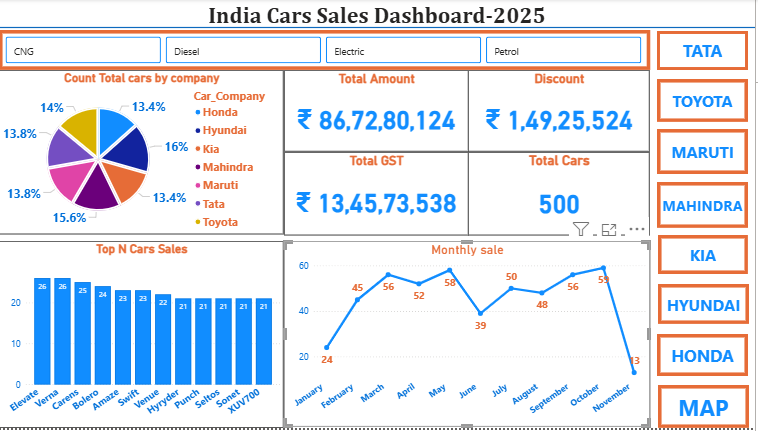

The page's visual inventory and layout, read from the dashboard file:
{"tool":"powerbi","page":{"name":"2025","canvas":[1280,720],"ordinal":0},"visuals":[{"type":"textbox","box":[10,0,1270,57.1],"z":0},{"type":"shape","box":[0,0,1280,95.7],"z":1000},{"type":"columnChart","title":"Top N Cars Sales","fields":{"Category":["car_sales_2025_india_updated.Car_Model"],"Y":["CountNonNull(car_sales_2025_india_updated.Price)"]},"box":[10.1,406.1,478.1,313.9],"z":2000},{"type":"pieChart","title":"Count Total cars by company","fields":{"Y":["CountNonNull(car_sales_2025_india_updated.Price)"],"Series":["car_sales_2025_india_updated.Car_Company"]},"box":[10.1,119.5,478.1,276.5],"z":3000},{"type":"lineChart","title":"Monthly sale","fields":{"Category":["car_sales_2025_india_updated.Delivery_Date.Variation.Date Hierarchy.Month"],"Y":["CountNonNull(car_sales_2025_india_updated.Price)"]},"box":[488.2,406.1,614.9,312.5],"z":4000},{"type":"card","title":"Total Amount","fields":{"Values":["Sum(car_sales_2025_india_updated.Total_Amount)"]},"box":[488.2,119.5,309.6,136.8],"z":5000},{"type":"card","title":"Total GST","fields":{"Values":["Sum(car_sales_2025_india_updated.GST)"]},"box":[488.2,256.3,309.6,139.7],"z":6000},{"type":"card","title":"Discount","fields":{"Values":["Sum(car_sales_2025_india_updated.Discount)"]},"box":[797.8,119.5,305.3,136.8],"z":7000},{"type":"card","title":"Total Cars","fields":{"Values":["CountNonNull(car_sales_2025_india_updated.Car_Model)"]},"box":[797.8,256.3,305.3,139.7],"z":8000},{"type":"actionButton","box":[1115.4,53.8,152.9,65.5],"z":9000},{"type":"actionButton","box":[1115.4,134.4,152.9,72.2],"z":10000},{"type":"actionButton","box":[1115.4,218.4,152.9,75.6],"z":11000},{"type":"actionButton","box":[1115.4,562.7,152.9,70.6],"z":12000},{"type":"actionButton","box":[1115.4,307.4,152.9,77.3],"z":13000},{"type":"actionButton","box":[1117.1,396.4,151.2,65.5],"z":14000},{"type":"actionButton","box":[1117.1,478.7,152.9,67.2],"z":15000},{"type":"actionButton","box":[1117.1,648.4,152.9,72.2],"z":16000},{"type":"advancedSlicerVisual","fields":{"Values":["car_sales_2025_india_updated.Fuel_Type"]},"box":[10.1,52.1,1093.5,67.2],"z":17000}]}

Visuals, with their boxes in screenshot pixels (x1, y1, x2, y2), scaled from the page's 1280x720 canvas onto the 758x431 screenshot:
textbox: <box>6,0,757,34</box>
shape: <box>0,0,757,57</box>
"Top N Cars Sales" columnChart: <box>6,243,289,430</box>
"Count Total cars by company" pieChart: <box>6,72,289,237</box>
"Monthly sale" lineChart: <box>289,243,653,430</box>
"Total Amount" card: <box>289,72,472,153</box>
"Total GST" card: <box>289,153,472,237</box>
"Discount" card: <box>472,72,653,153</box>
"Total Cars" card: <box>472,153,653,237</box>
actionButton: <box>661,32,751,71</box>
actionButton: <box>661,80,751,124</box>
actionButton: <box>661,131,751,176</box>
actionButton: <box>661,337,751,379</box>
actionButton: <box>661,184,751,230</box>
actionButton: <box>662,237,751,276</box>
actionButton: <box>662,287,752,327</box>
actionButton: <box>662,388,752,430</box>
advancedSlicerVisual - car_sales_2025_india_updated.Fuel_Type: <box>6,31,654,71</box>
